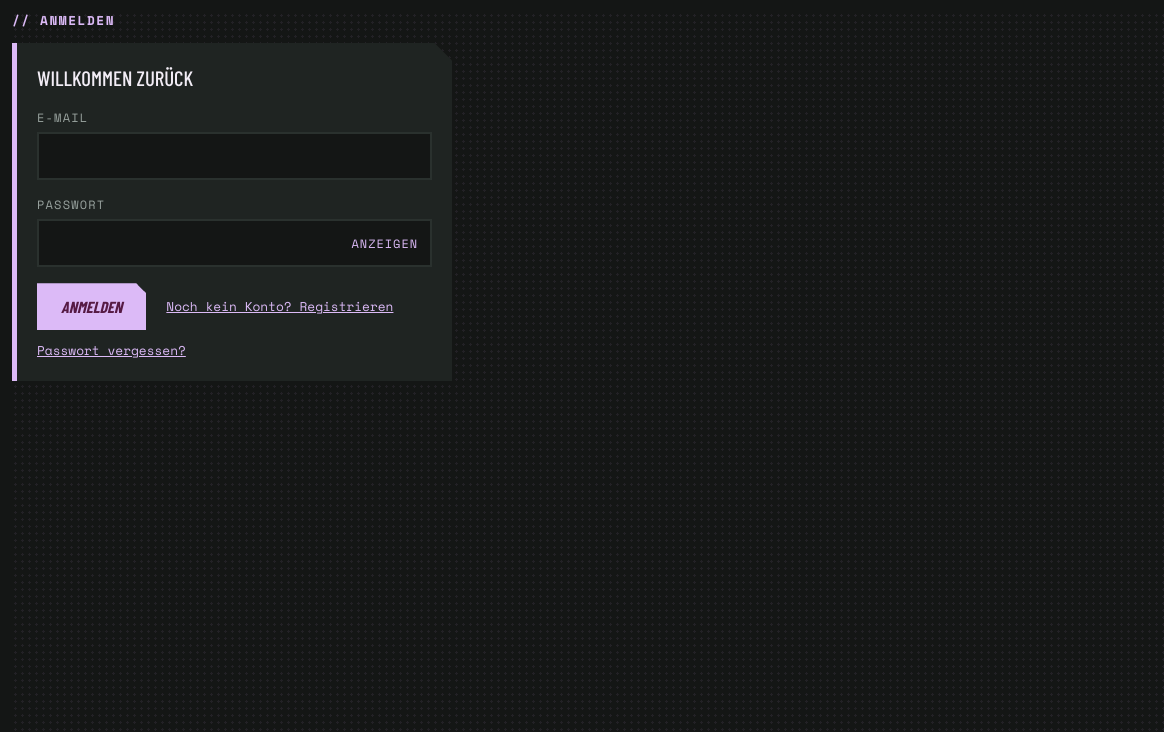
Test: Login › zeigt eine Meldung bei falschem Passwort
Type "lina@example.com" into the field labelled "E-Mail" at (234, 156), box [37, 132, 432, 180]
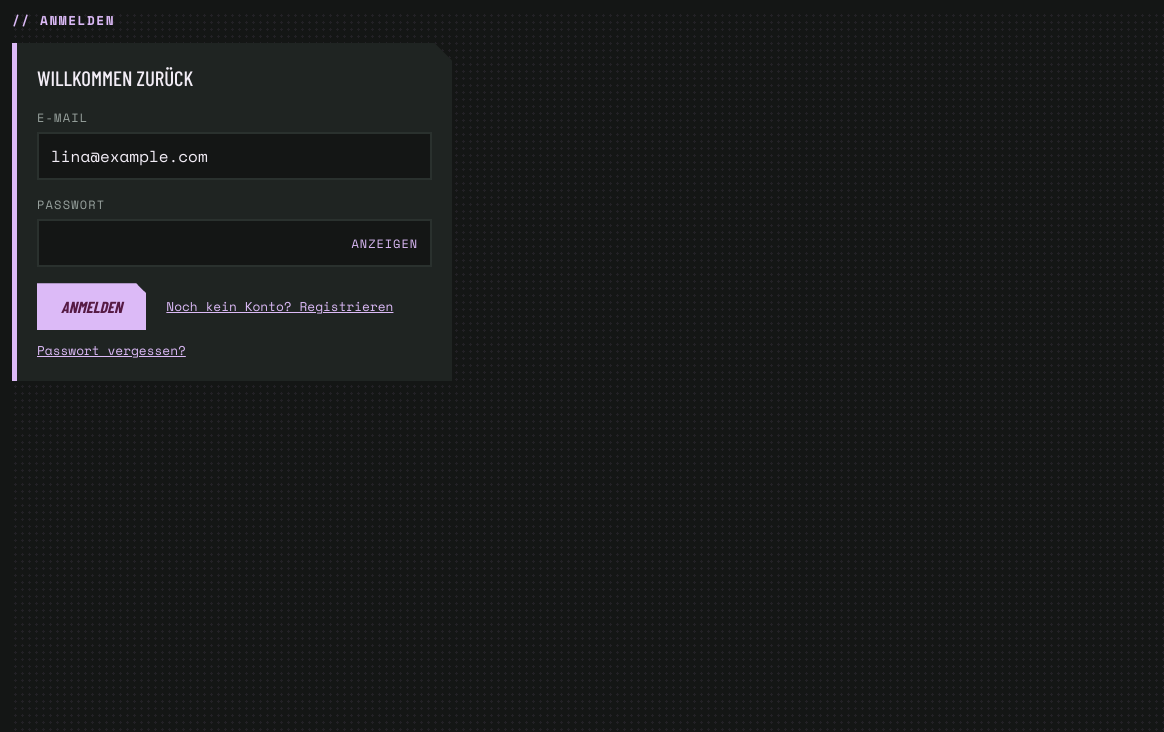
Type "geheim1234" into the password field labelled "Passwort anzeigen" at (234, 244), box [37, 220, 432, 268]
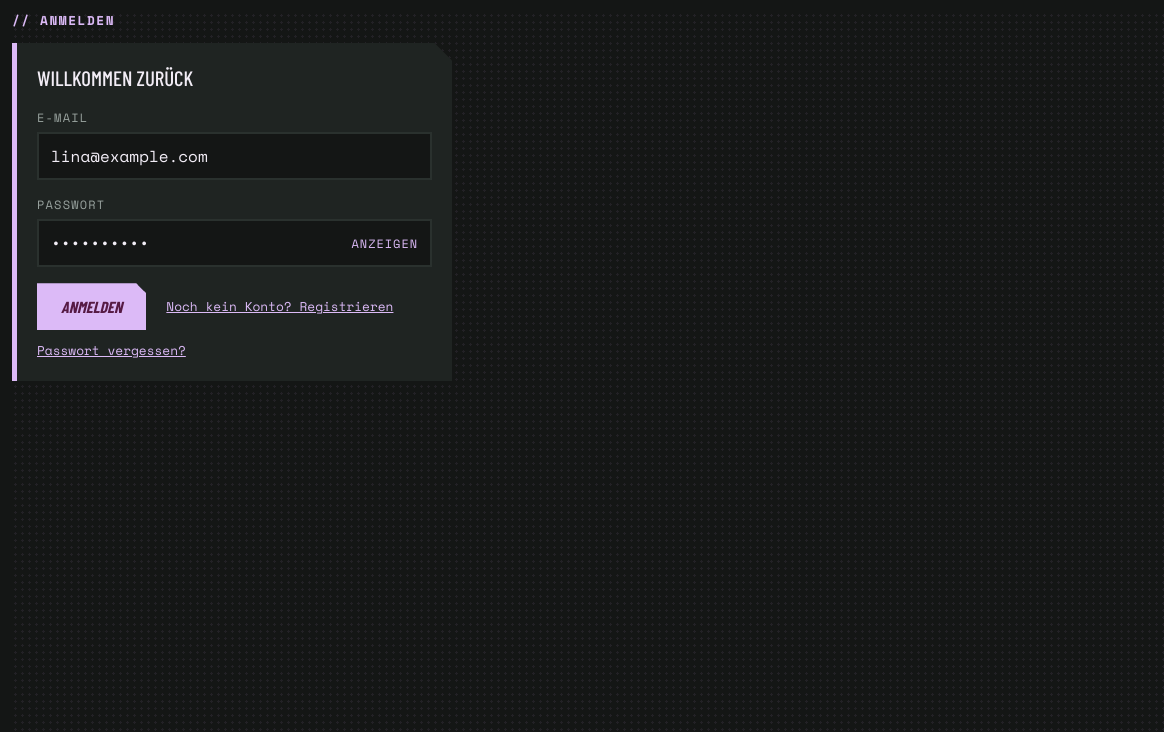
Submit the form, box [12, 42, 452, 381]
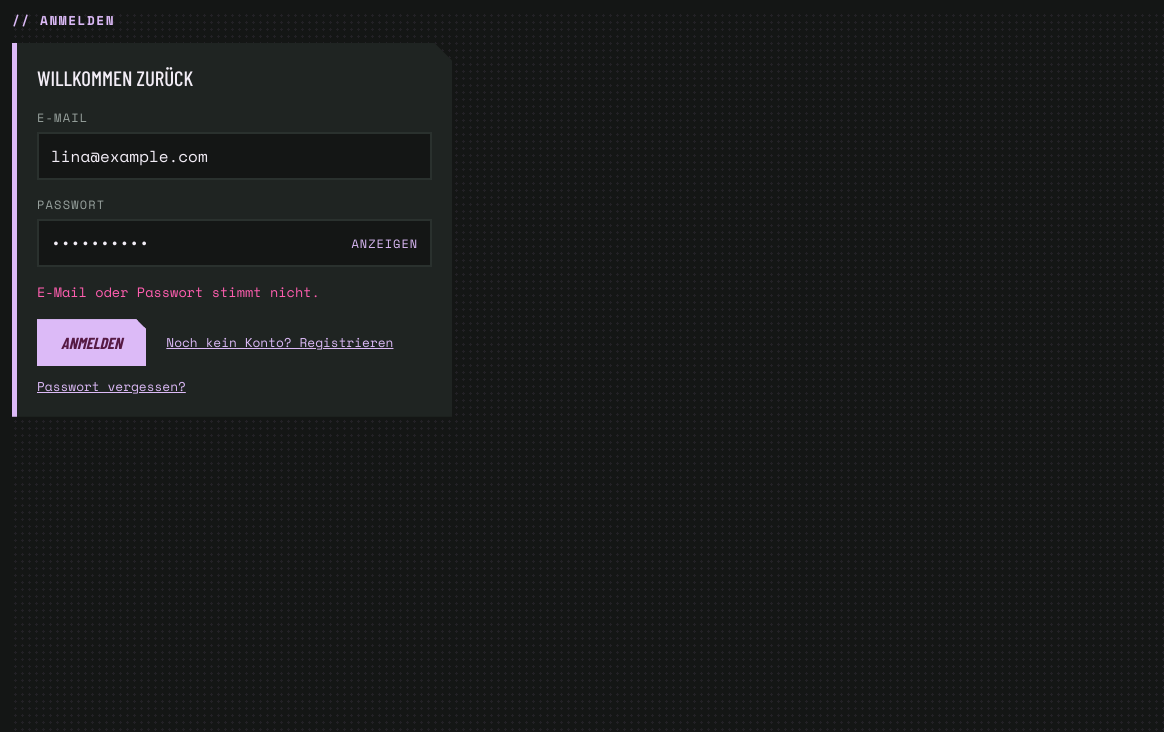
expect the text "E-Mail oder Passwort stimmt nicht" is shown: met, box [37, 282, 320, 302]
